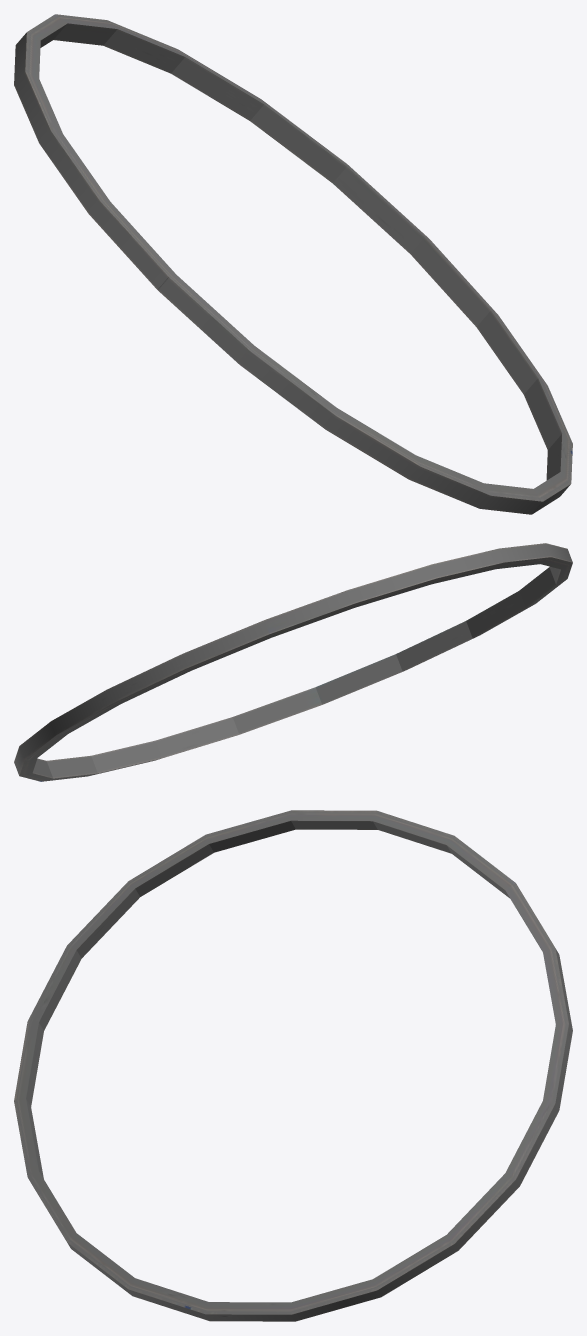
File: celestialPrism_innerRing004.glb
3 renders of one model, top to bottom at view 1: azimuth 30°, elevation 25°; view 2: azimuth 150°, elevation 25°; view 3: azimuth 270°, elevation 25°, orthographic. The views are drawn at different scales.
Visible parts, largest first — view 1: innerRing04; view 2: innerRing04; view 3: innerRing04.
Boxes of the visible parts, <box> form: innerRing04: <box>14,14,572,514</box>; innerRing04: <box>14,543,572,781</box>; innerRing04: <box>14,810,572,1321</box>.
Size of the model in its own units: 0.5148 by 0.3988 by 0.5973.
1 material, 1 textured.
